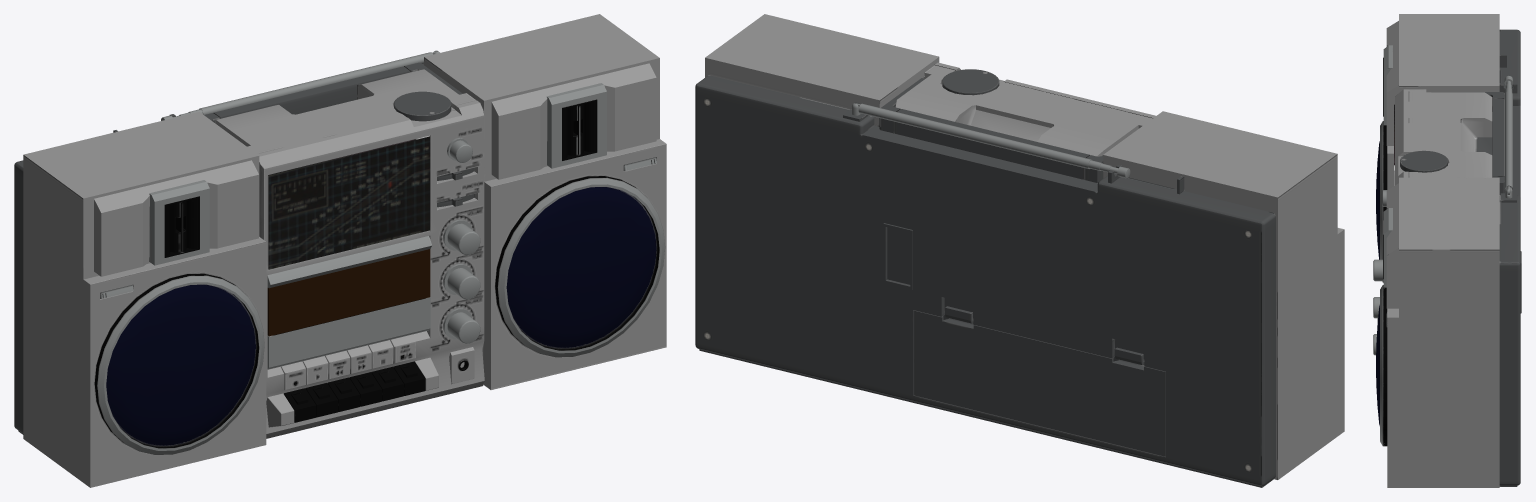
Rendered from model_BoomBox.glb.
3 renders of one model, left to right at view 1: azimuth 30°, elevation 25°; view 2: azimuth 150°, elevation 25°; view 3: azimuth 270°, elevation 25°, orthographic. The views are drawn at different scales.
Visible parts, largest first — view 1: Boombox.020, Boombox.008, Boombox.005, Boombox.001, Boombox.004, Boombox.012, Boombox.011, Boombox.009, Boombox.015, Boombox.017, Boombox.019, Boombox.002 (+2 smaller); view 2: Boombox.020, Boombox.003, Boombox.005, Boombox.001, Boombox.004; view 3: Boombox.020, Boombox.005, Boombox.001, Boombox.004, Boombox.012.
Boxes of the visible parts, left/top/right/bottom form: Boombox.020: left=14, top=14, right=666, bottom=487; Boombox.008: left=267, top=236, right=432, bottom=369; Boombox.005: left=204, top=62, right=462, bottom=122; Boombox.001: left=161, top=51, right=437, bottom=120; Boombox.004: left=394, top=91, right=451, bottom=121; Boombox.012: left=443, top=219, right=480, bottom=255; Boombox.011: left=443, top=264, right=480, bottom=299; Boombox.009: left=443, top=308, right=480, bottom=343; Boombox.015: left=284, top=388, right=316, bottom=422; Boombox.017: left=349, top=372, right=381, bottom=406; Boombox.019: left=305, top=383, right=337, bottom=417; Boombox.002: left=393, top=361, right=425, bottom=395; Boombox.020: left=695, top=14, right=1344, bottom=487; Boombox.003: left=913, top=306, right=1165, bottom=456; Boombox.005: left=879, top=78, right=1103, bottom=182; Boombox.001: left=855, top=103, right=1130, bottom=178; Boombox.004: left=942, top=69, right=999, bottom=95; Boombox.020: left=1376, top=14, right=1521, bottom=487; Boombox.005: left=1431, top=92, right=1504, bottom=194; Boombox.001: left=1504, top=76, right=1513, bottom=194; Boombox.004: left=1400, top=150, right=1447, bottom=172; Boombox.012: left=1373, top=259, right=1383, bottom=281.
Bounding box in the file's own units: 0.4973 × 0.2355 × 0.1321.
Materials: 1 (1 with a texture image).
